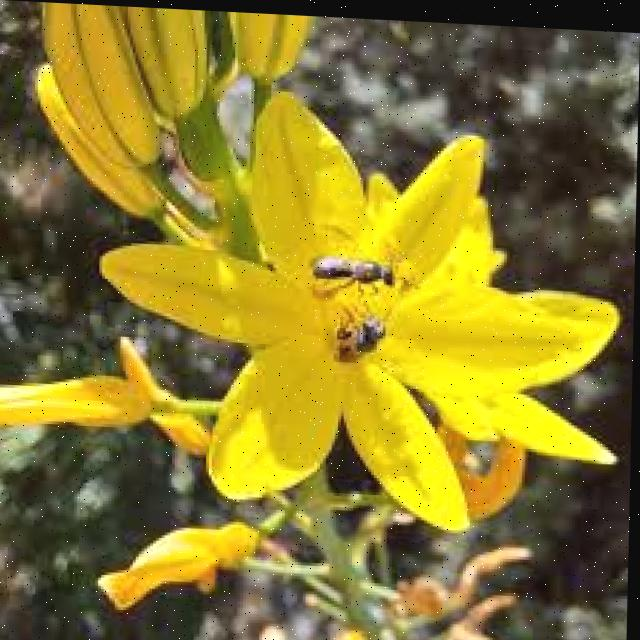Lasioglossum: (297, 235, 422, 290), (326, 300, 396, 374)
